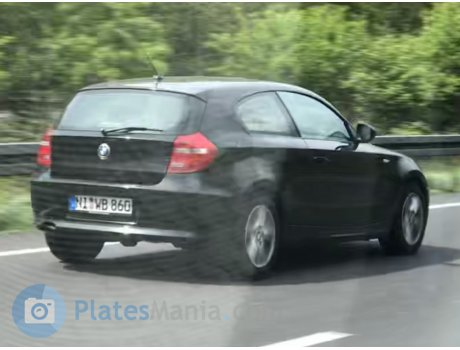License Plates: (72, 194, 136, 214)
